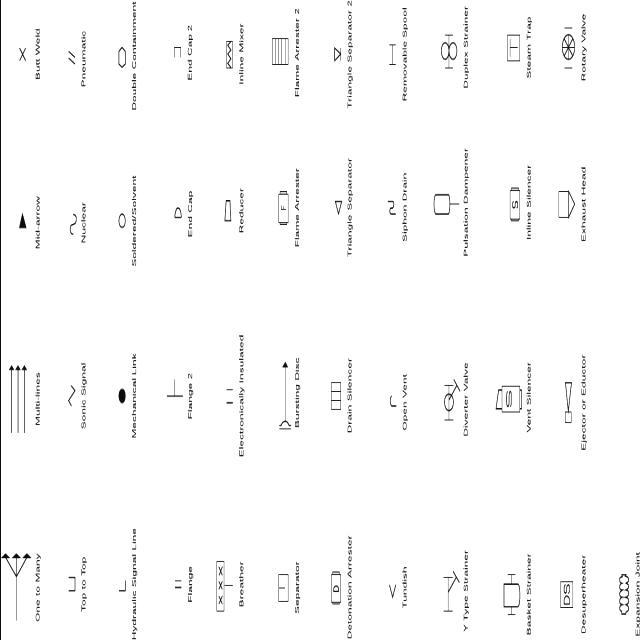Pneumatic-Diaphragm Gate Valve: (60, 40, 77, 86)
